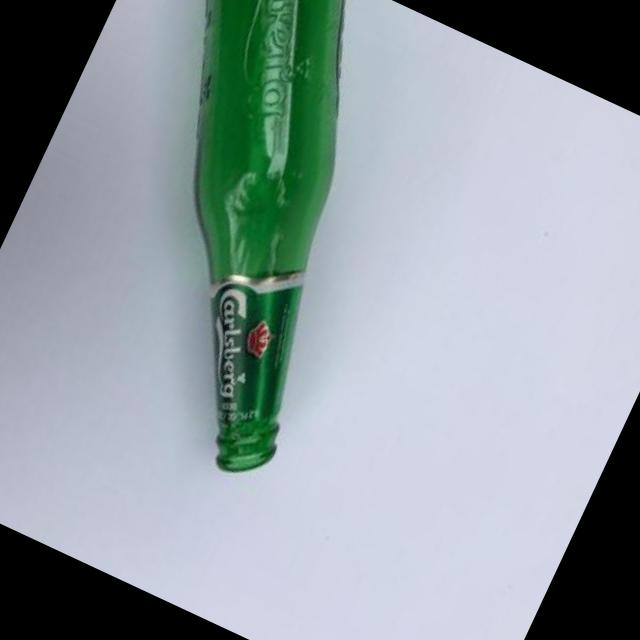BotolKaca: (0, 0, 473, 493)
